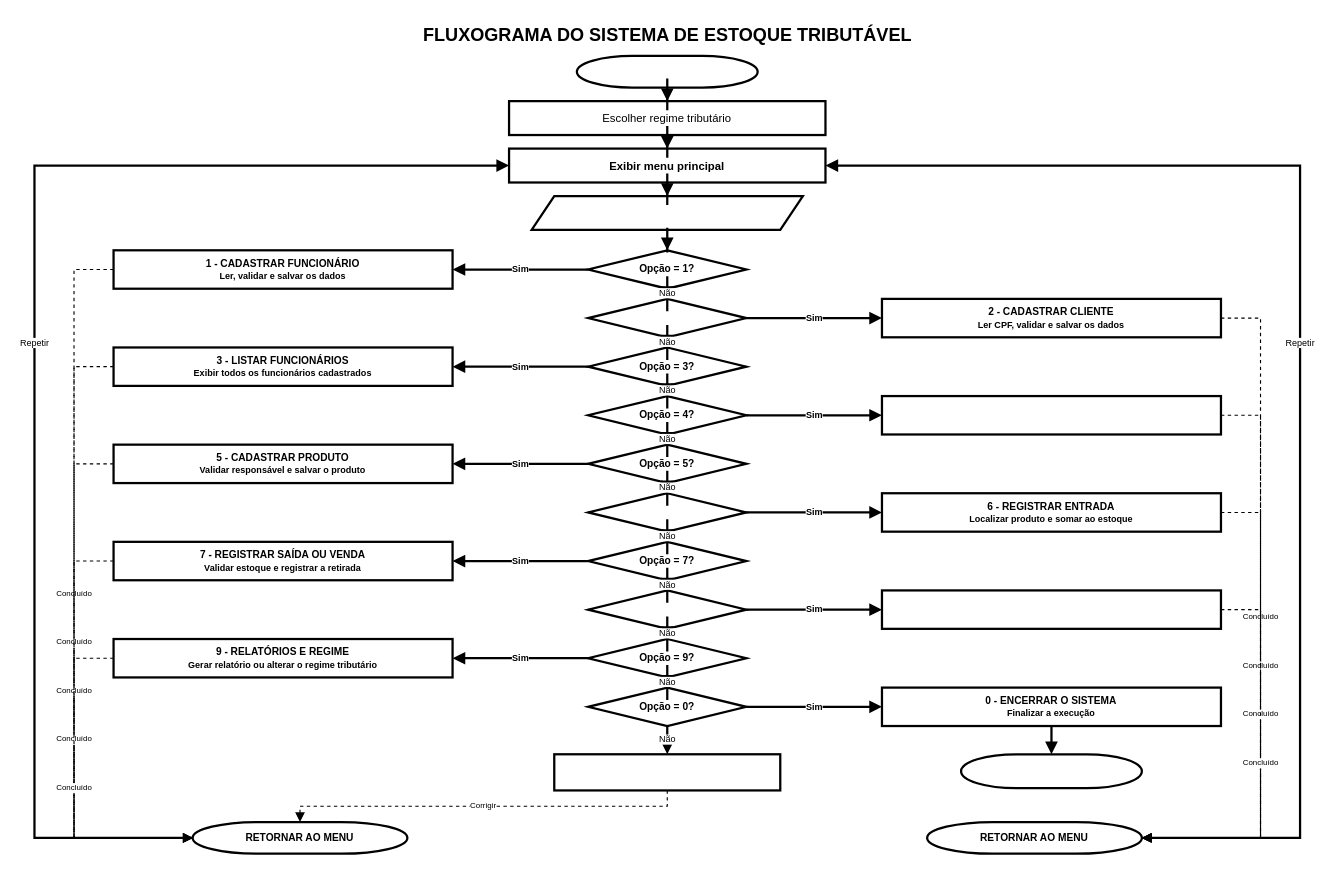
This 1333x873 diagram has some shape labels left out. Each missing label, with the box of its shape:
4 - LISTAR CLIENTES Exibir todos os clientes cadastrados: (880, 394, 1222, 435)
8 - CONSULTAR ESTOQUE Listar estoque completo ou estoque mínimo: (880, 589, 1222, 629)
Exibir: opção inválida: (553, 753, 781, 791)
FIM: (959, 753, 1142, 789)
INÍCIO: (575, 54, 758, 88)
Ler a opção digitada: (530, 194, 803, 231)
Opção = 2?: (586, 297, 747, 338)
Opção = 6?: (586, 492, 747, 532)
Opção = 8?: (586, 589, 747, 629)
